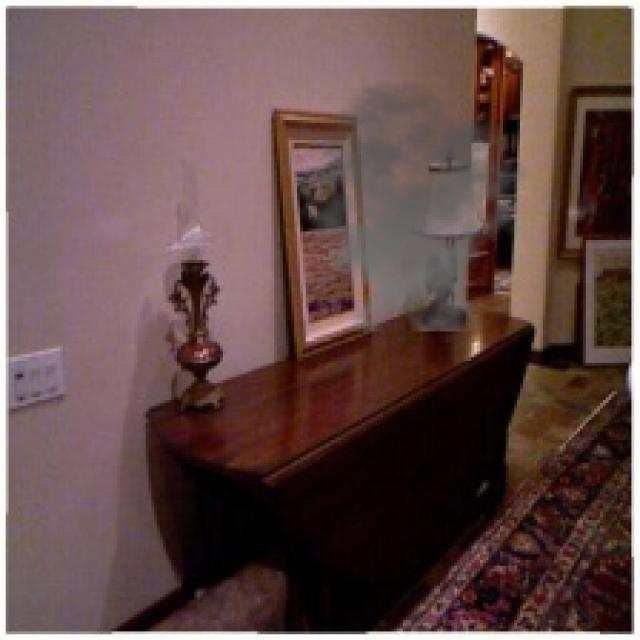Smoke: (283, 80, 532, 332)
